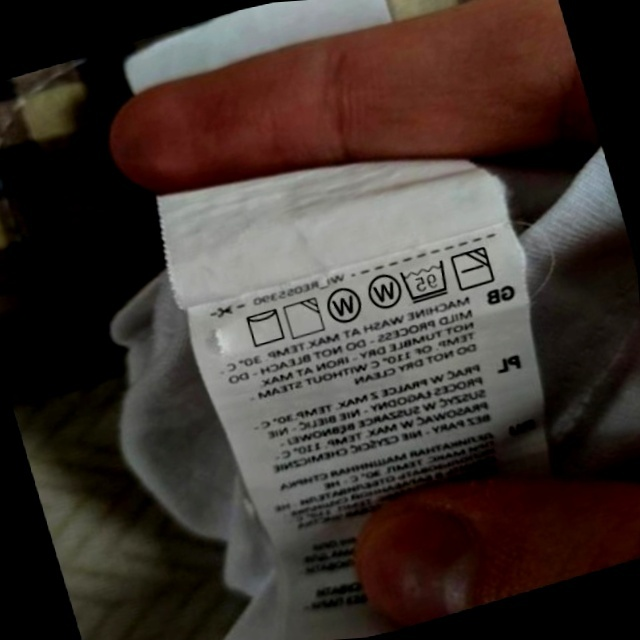95C: (396, 255, 455, 307)
dry_flat_in_shade: (447, 241, 499, 295)
line_dry: (239, 302, 289, 352)
shade_dry: (279, 293, 329, 343)
wet_clean: (320, 281, 368, 331), (359, 266, 406, 316)
